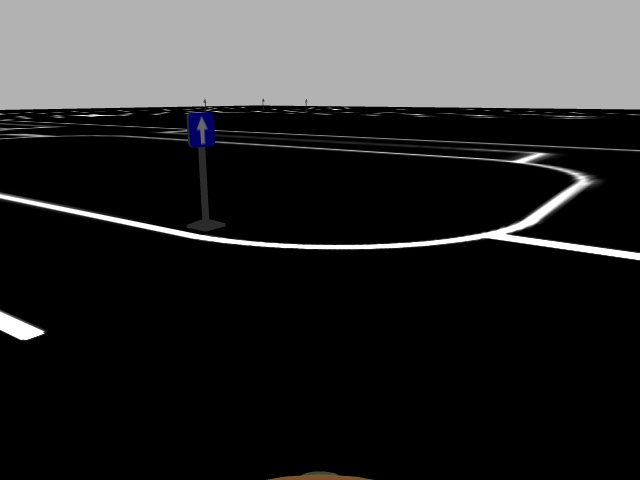oneway: (186, 111, 217, 152)
